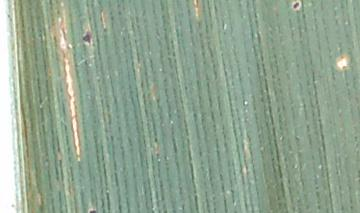tarspot: (79, 25, 94, 47), (291, 1, 302, 10), (85, 207, 99, 213)
